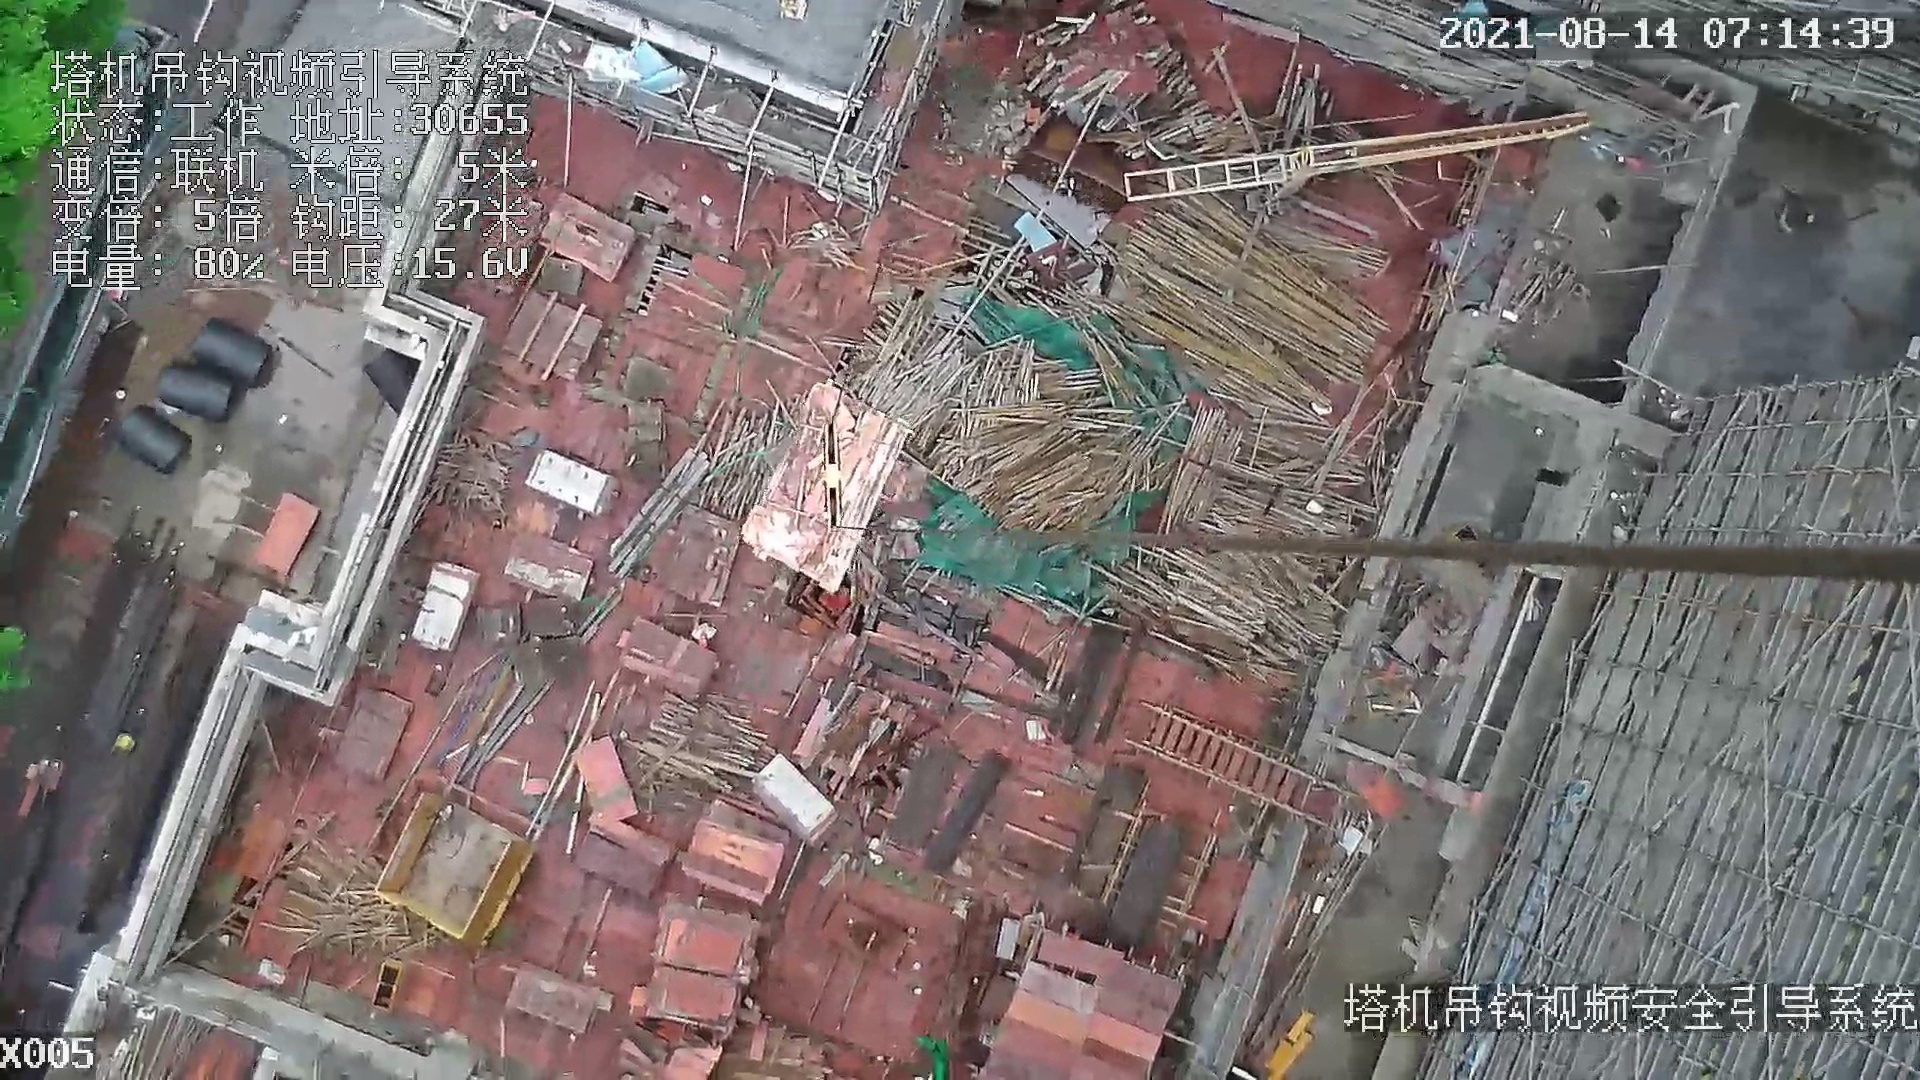hook: (812, 417, 858, 535)
